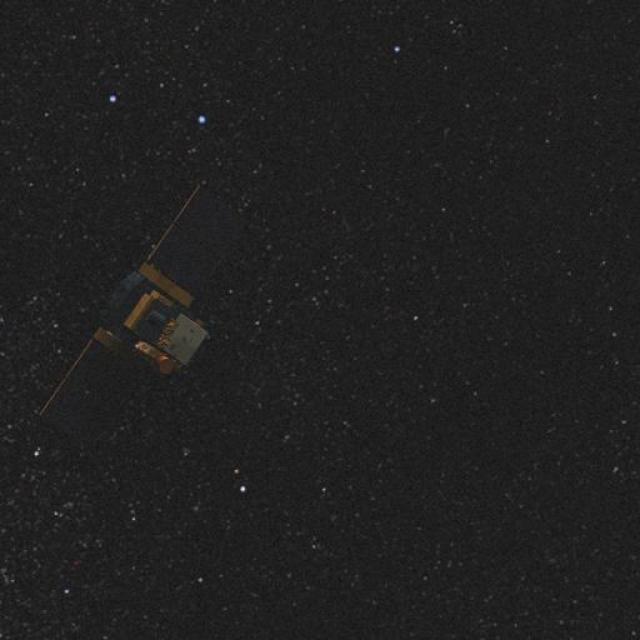soho: (32, 172, 252, 464)
